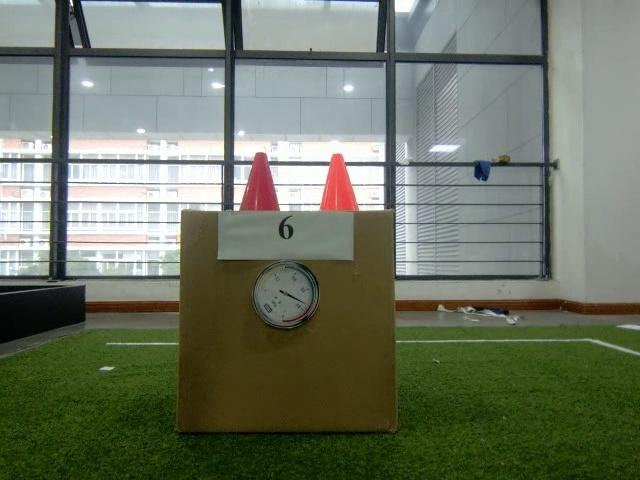6: (274, 213, 296, 240)
Dashboard: (252, 258, 321, 330)
orange_barrel: (317, 150, 362, 212)
red_barrel: (236, 149, 284, 213)
ssi: (263, 303, 273, 313)
